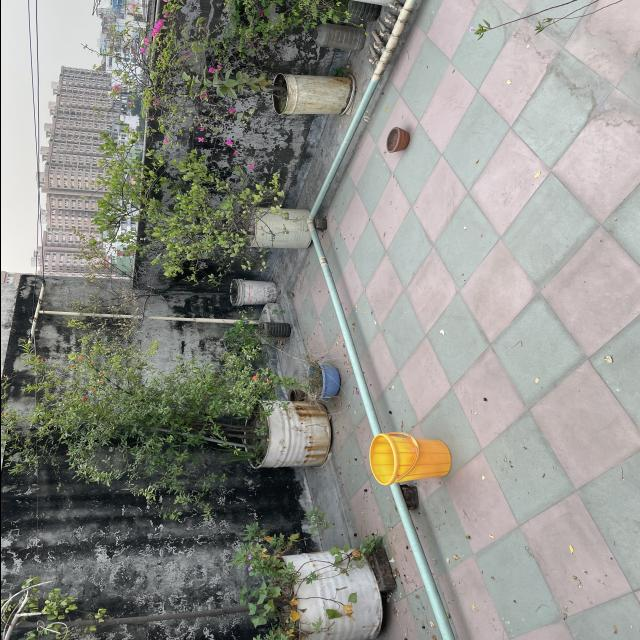Breeding Place: (264, 551, 382, 640), (240, 402, 332, 475), (369, 434, 455, 486), (268, 74, 354, 119), (232, 208, 316, 252), (301, 362, 343, 402), (230, 280, 282, 311), (320, 0, 378, 25), (309, 28, 369, 52), (384, 128, 416, 160)
